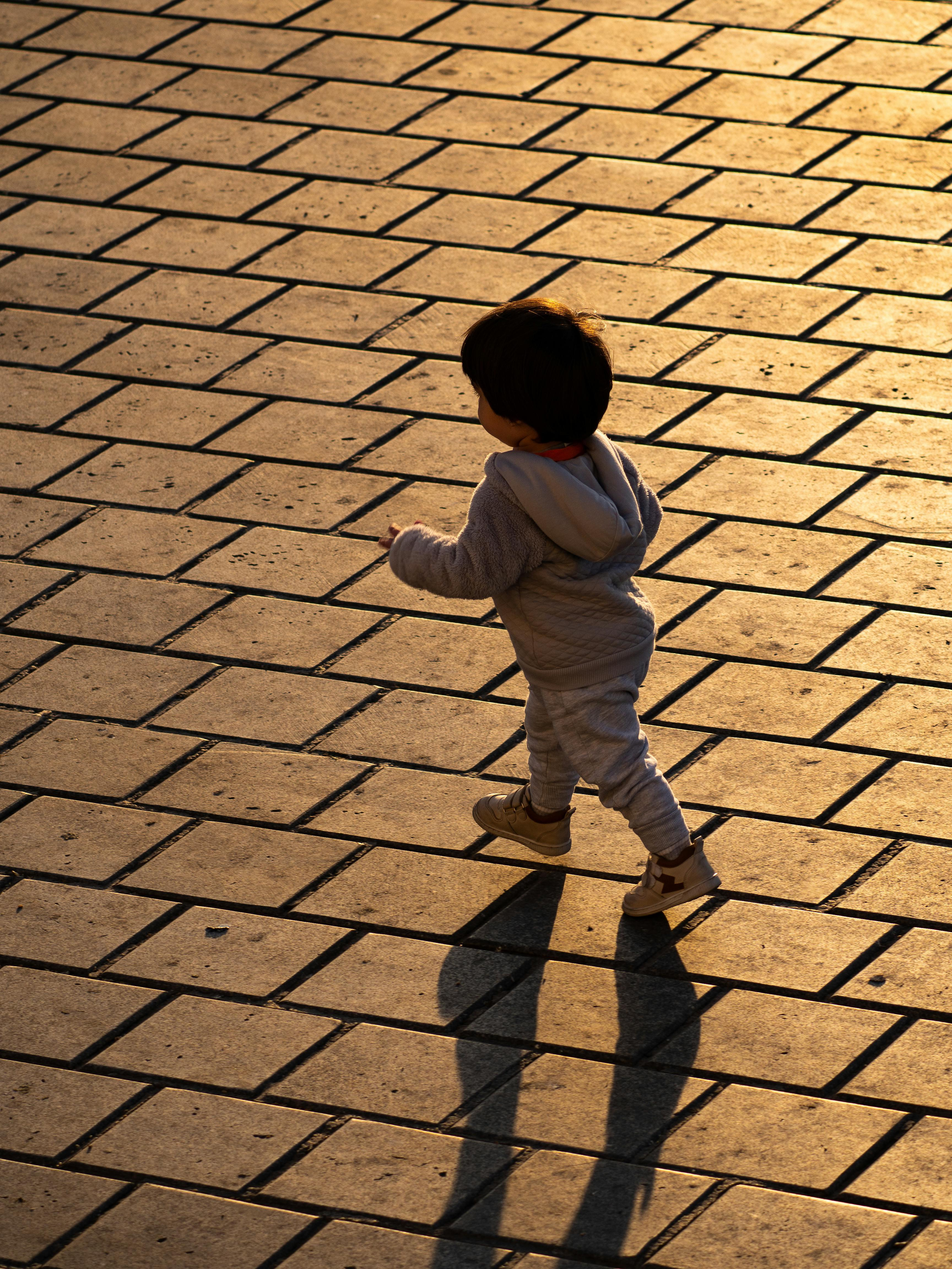Human: (384, 290, 765, 1013)
